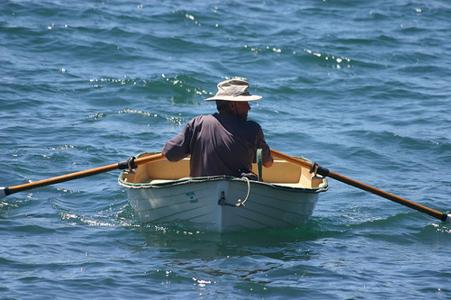person: (160, 75, 275, 181)
